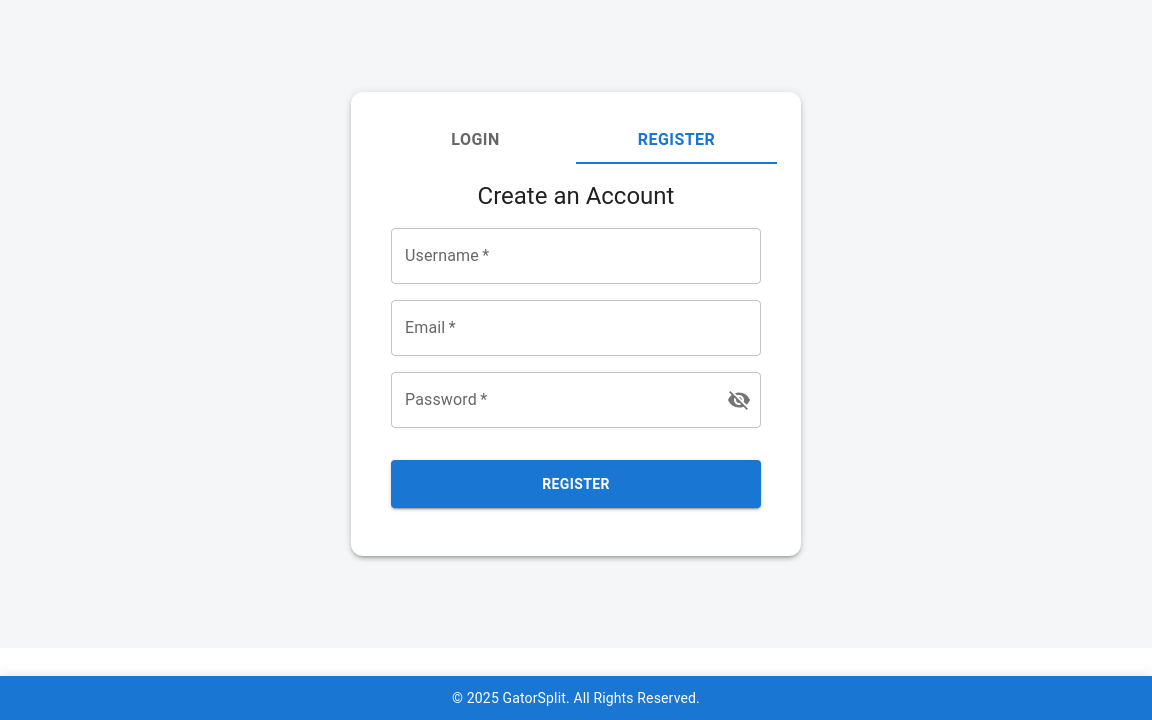
Test: RegisterPage Component › displays error message when registration fails
Type "baduser" into the field labelled "Username *".
click(576, 256); type("baduser")  # box left=391, top=228, right=761, bottom=284
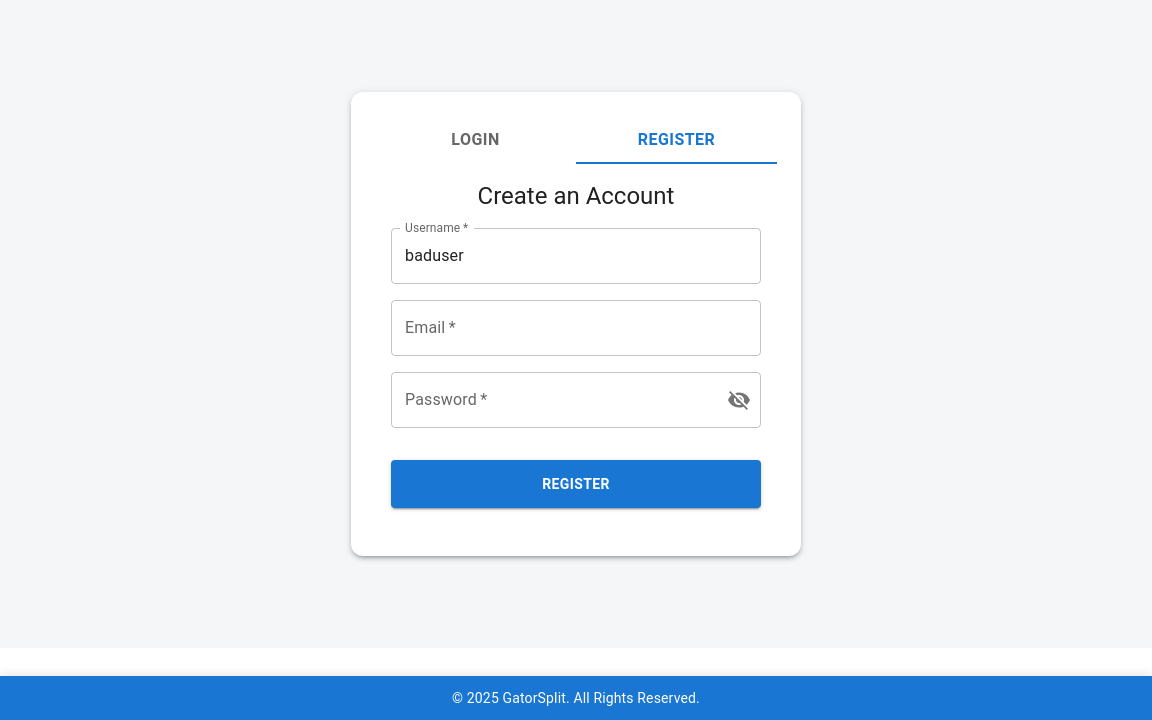
Type "baduser@example.com" into the field labelled "Email *".
click(576, 328); type("baduser@example.com")  # box left=391, top=300, right=761, bottom=356
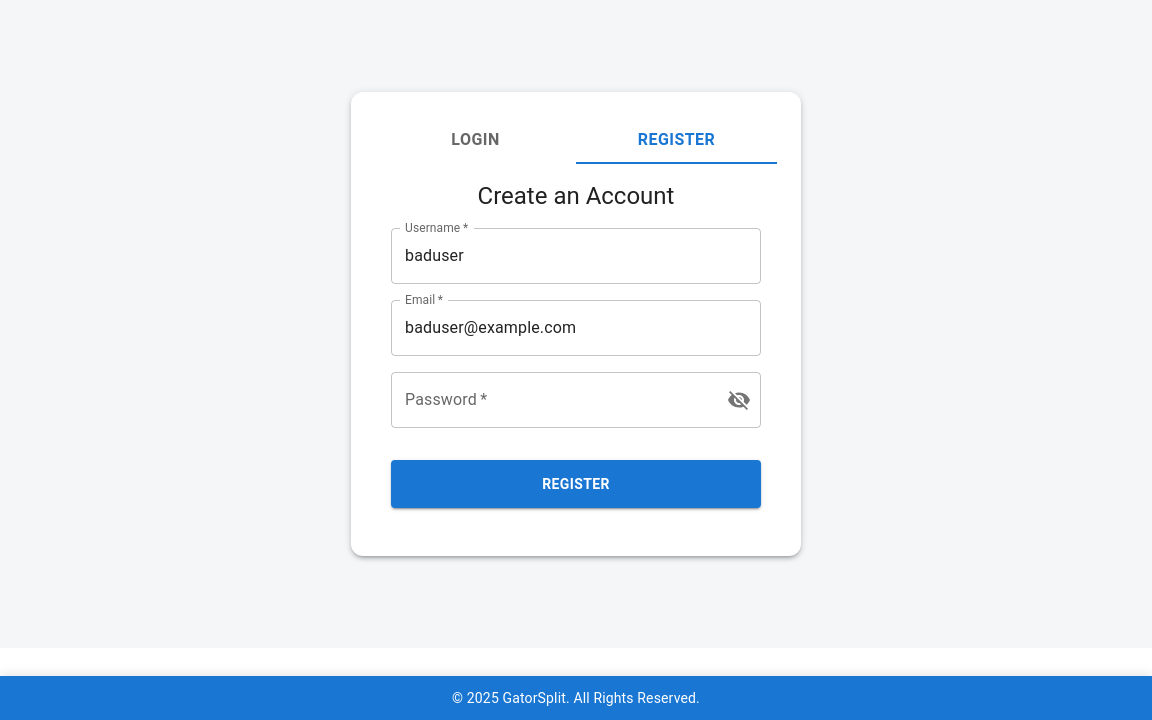
Type "badpassword" into the password field labelled "Password *".
click(551, 400); type("badpassword")  # box left=391, top=372, right=711, bottom=428
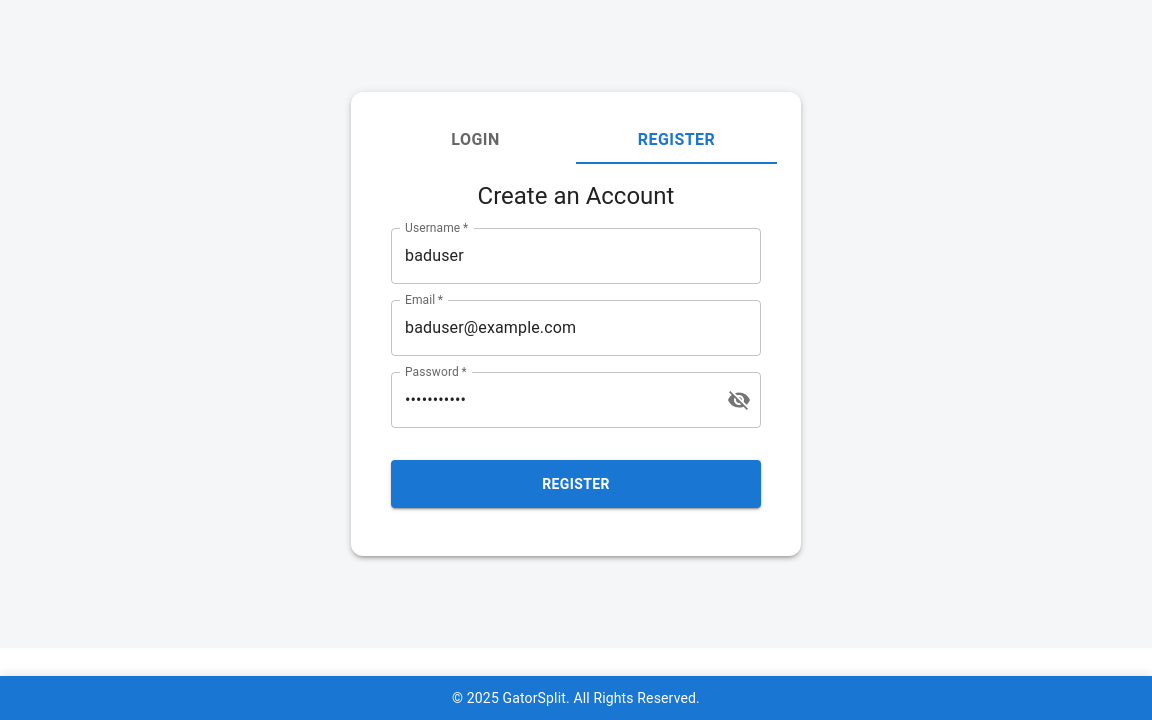
Click the button "Register".
click(576, 484)  # box left=391, top=460, right=761, bottom=508
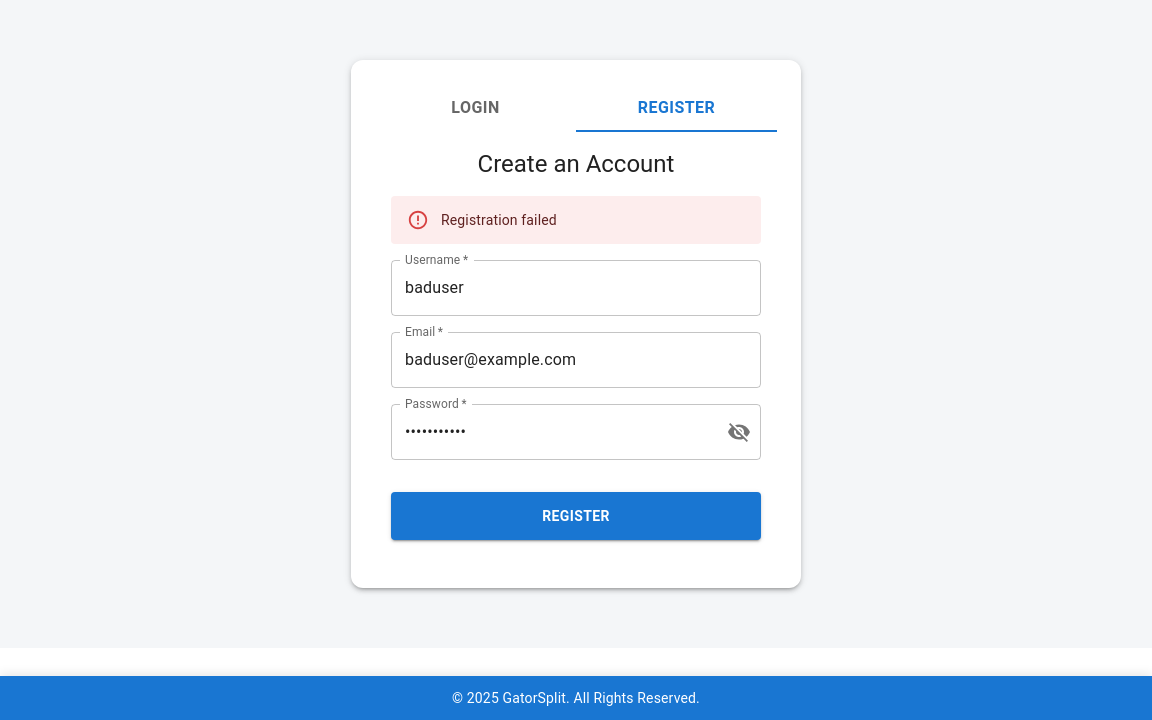
Result: the text "Registration failed" is shown at left=441, top=212, right=557, bottom=228
